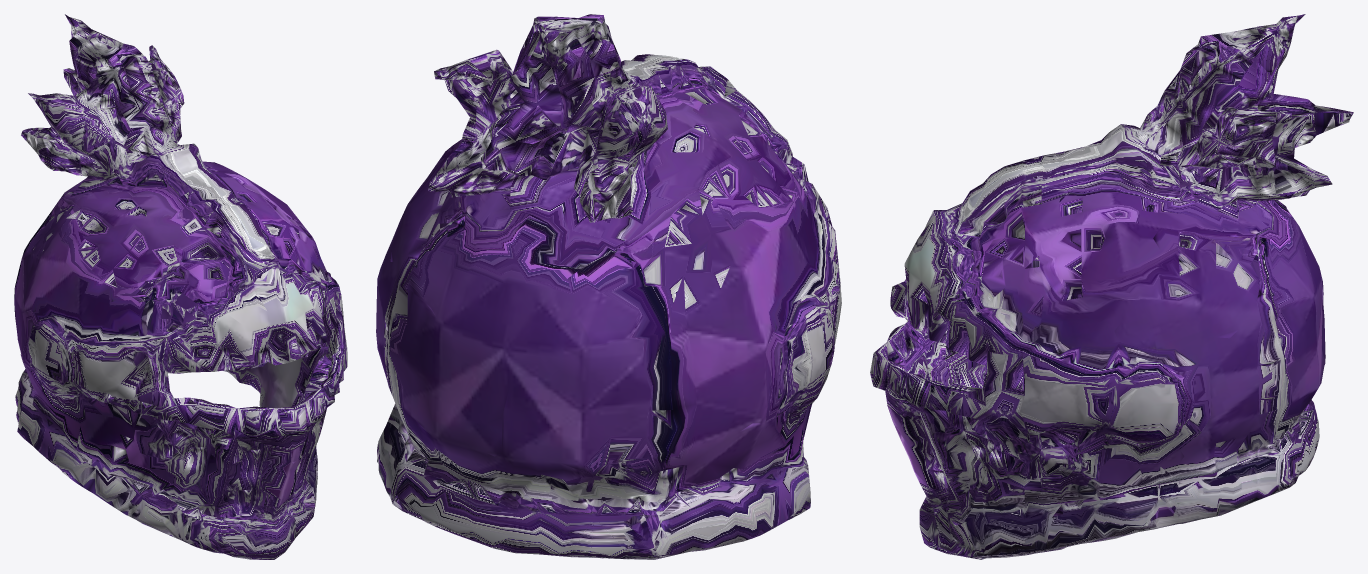
The model's file is amethyst_helm.glb.
The picture shows the model from 3 angles, left to right: view 1: azimuth 30°, elevation 25°; view 2: azimuth 150°, elevation 25°; view 3: azimuth 270°, elevation 25°; orthographic projection. The views are drawn at different scales.
Bounding box in the file's own units: 0.3159 × 0.4728 × 0.4047.
Materials: 1 (1 with a texture image).
